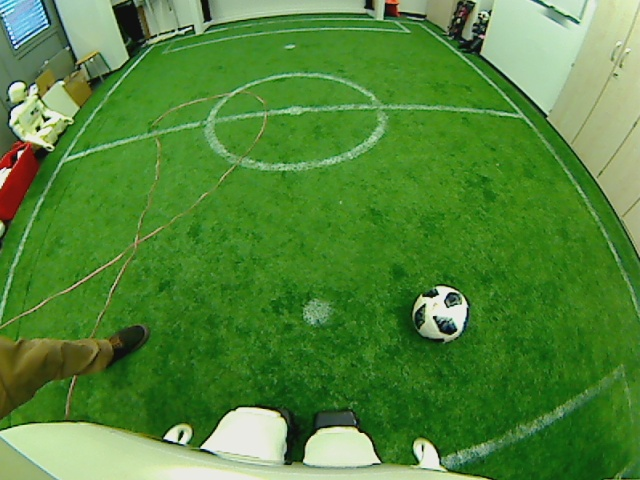ball: (409, 282, 471, 343)
